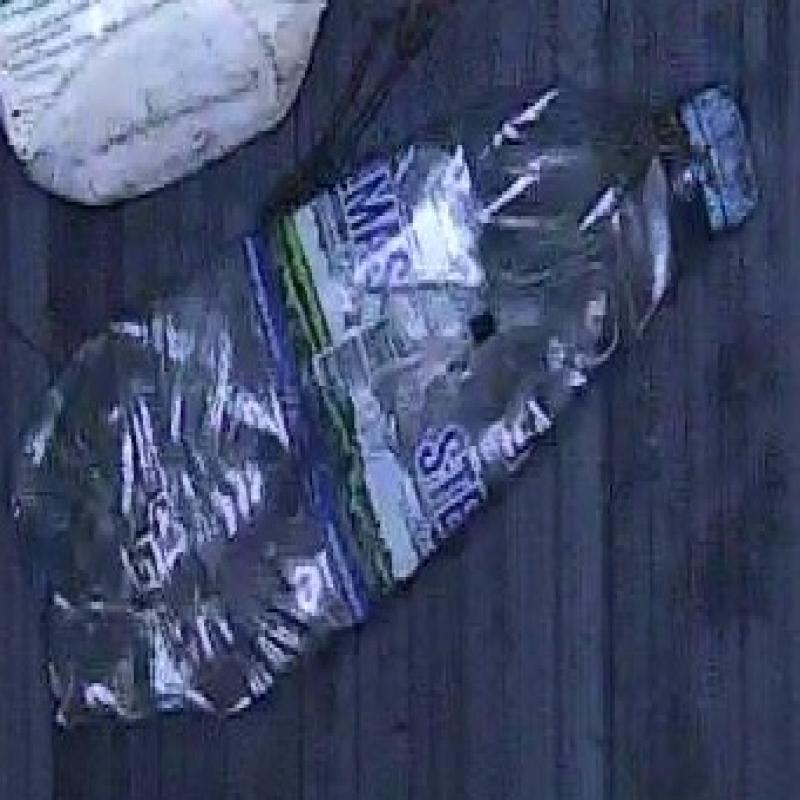botella: (2, 55, 767, 726)
